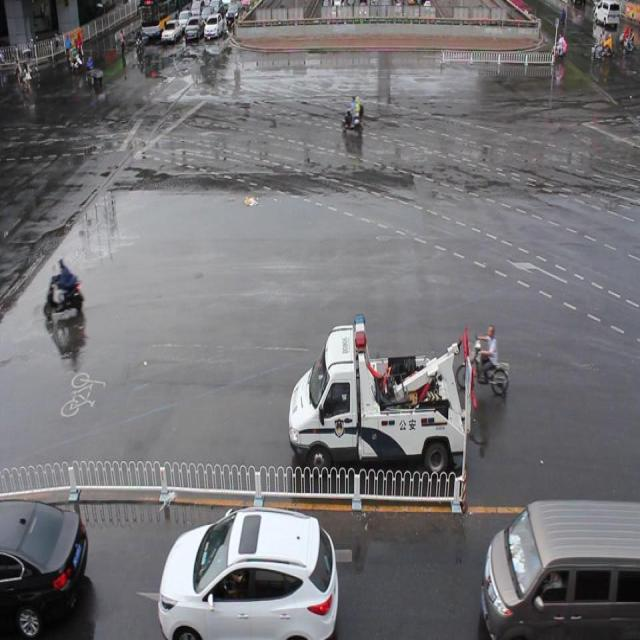bus: (289, 308, 475, 475)
car: (157, 502, 337, 640), (1, 493, 87, 640)
truck: (480, 495, 640, 640)
